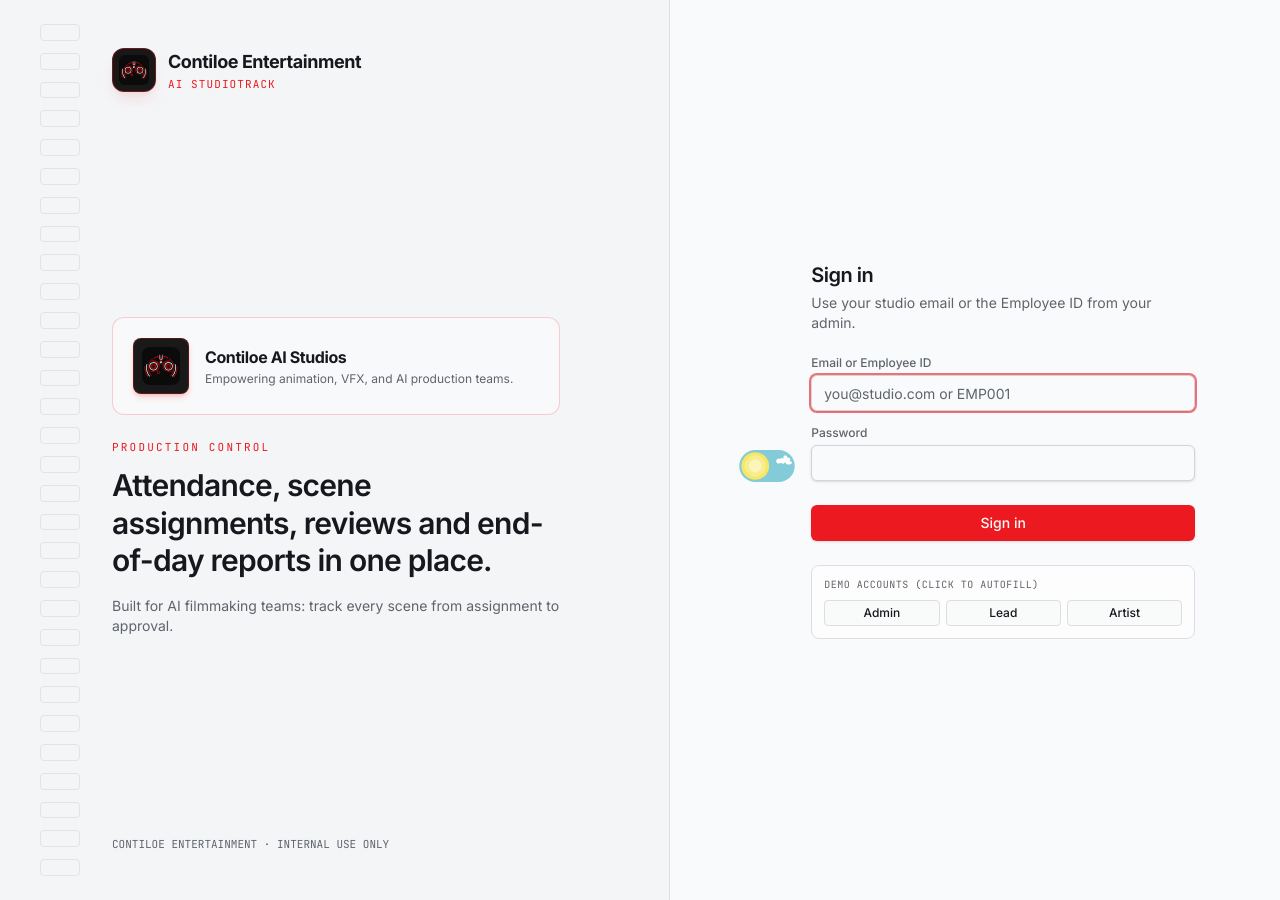
LoginPage › explains when the API is unreachable
The width and height of the screenshot is (1280, 900).
Type "lead.anim@studio.test" into the field labelled "Email or Employee ID". click: [1003, 393]
box: 811,375 -> 1195,411
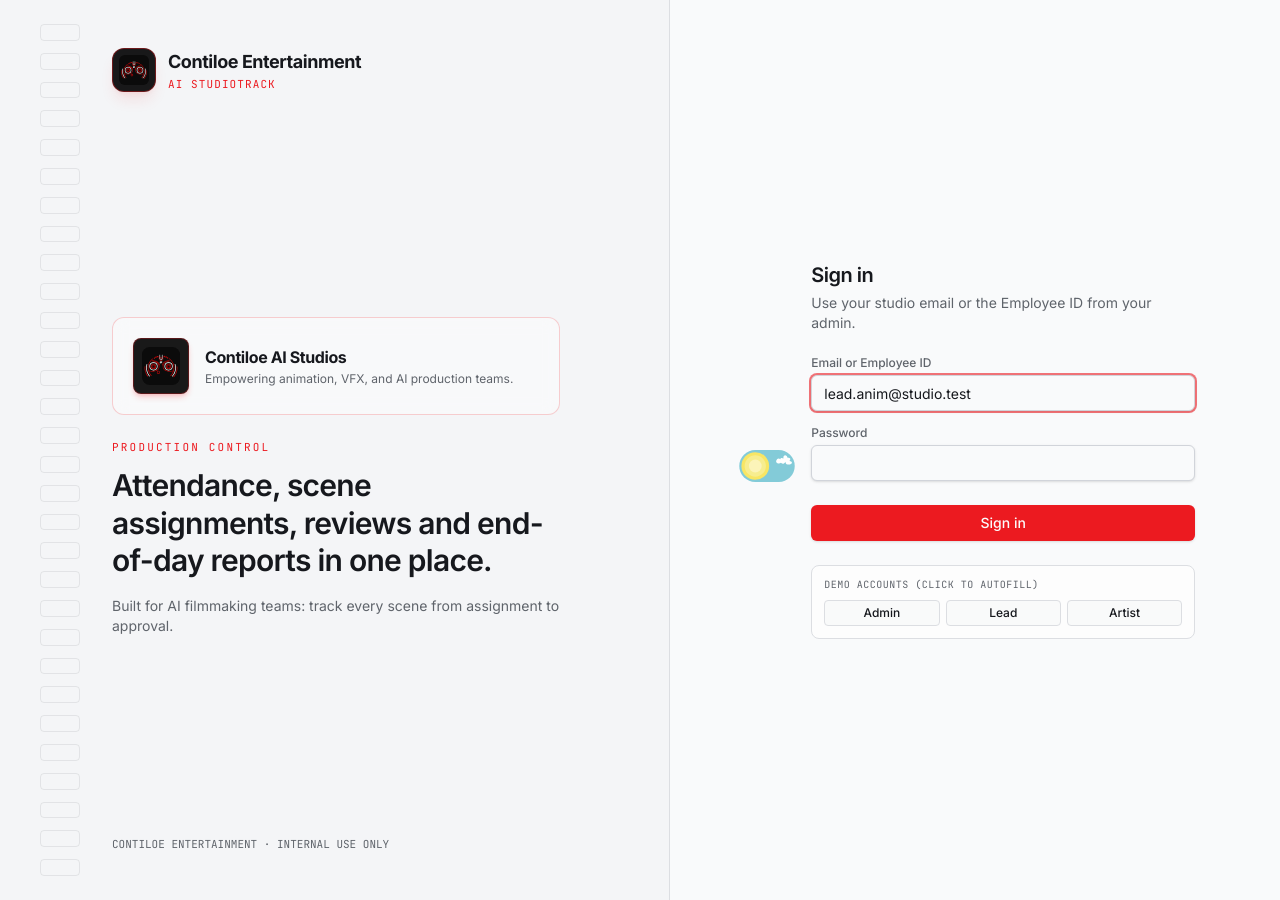
Type "x" into the password field labelled "Password". click: [1003, 463]
box: 811,445 -> 1195,481
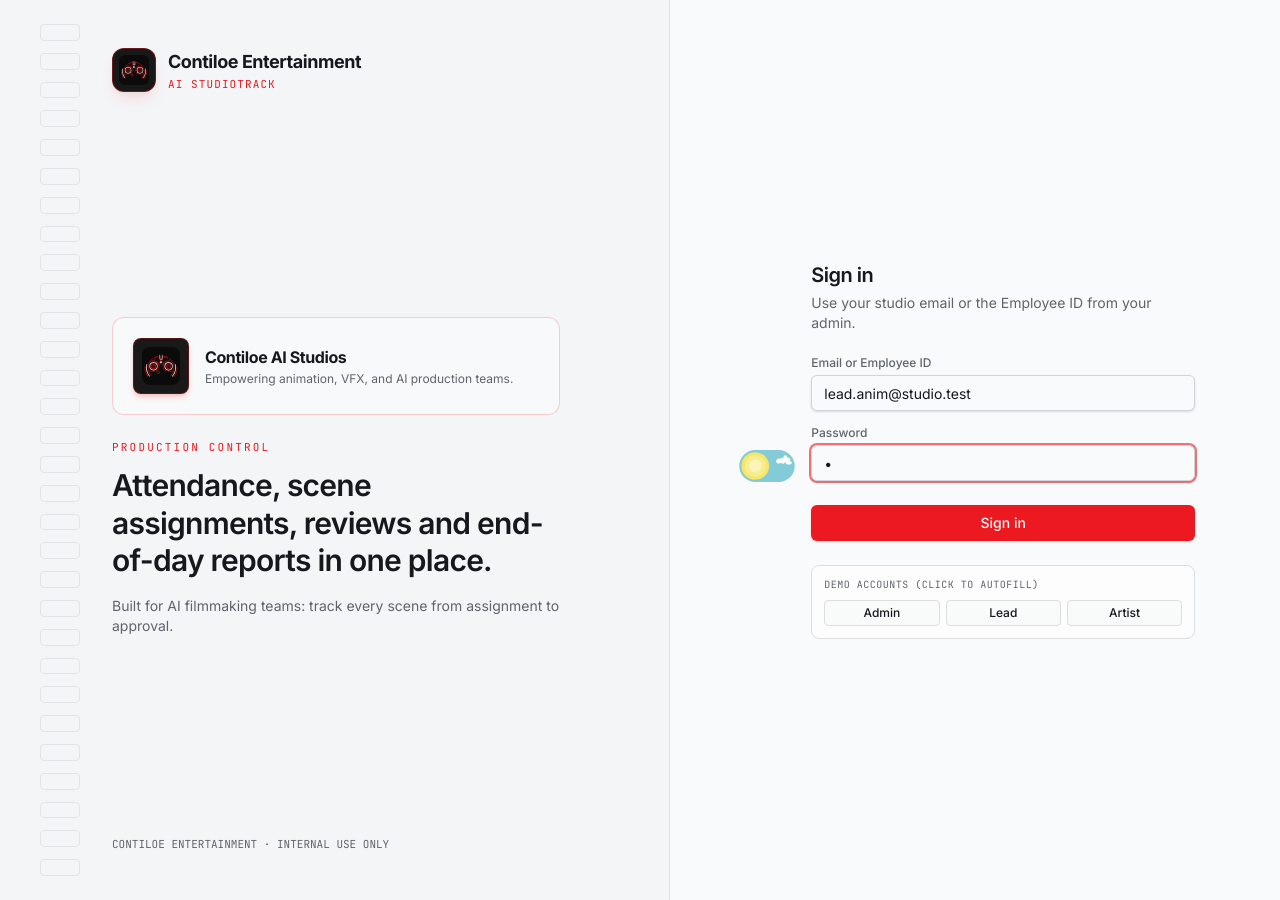
Click the button "Sign in". click: [1003, 523]
box: 811,505 -> 1195,541
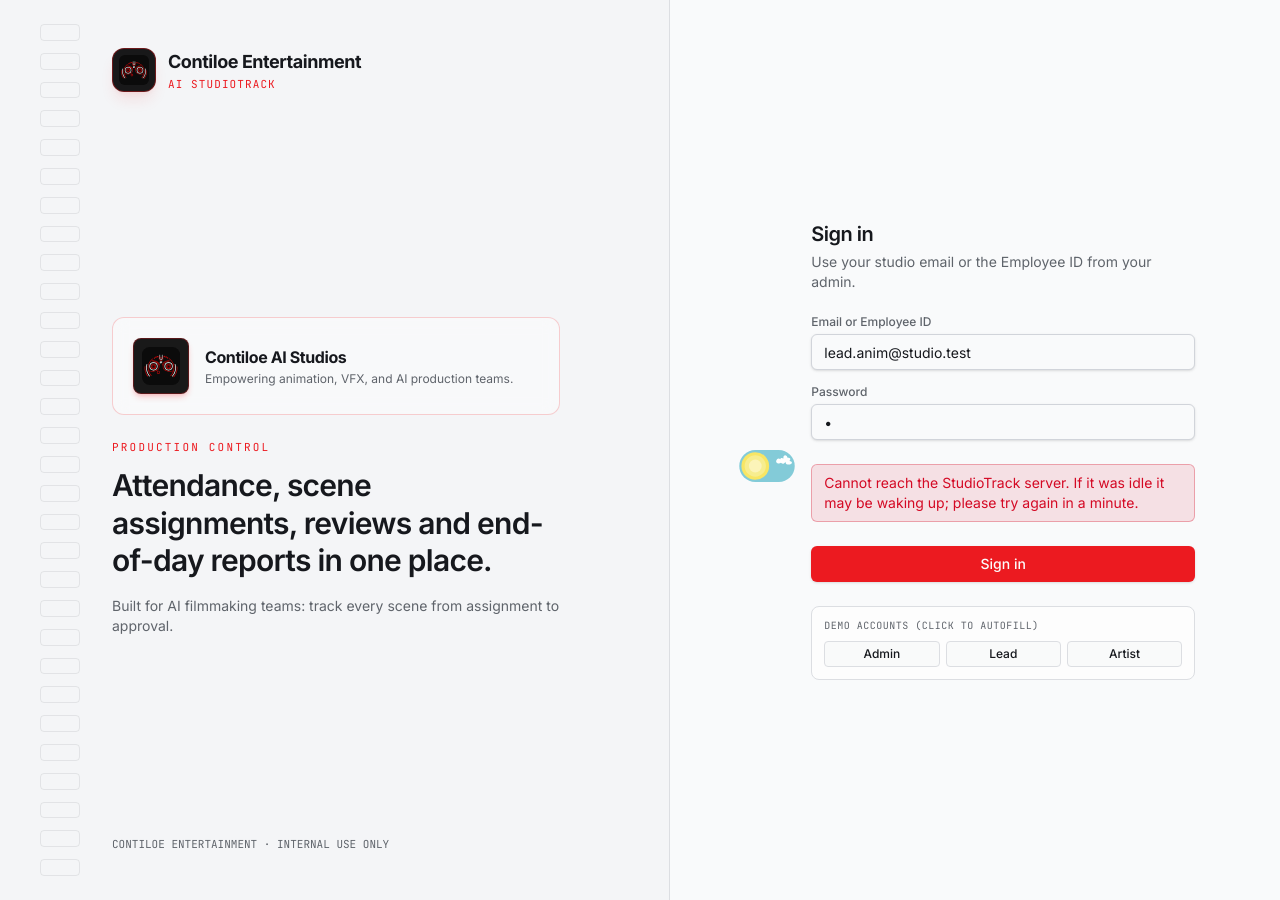
Result: the message shows "Cannot reach the StudioTrack server" at 824,474 -> 1164,511
